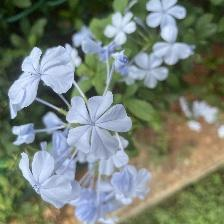chitrak: (7, 43, 76, 117), (66, 93, 132, 162), (16, 149, 70, 206)
